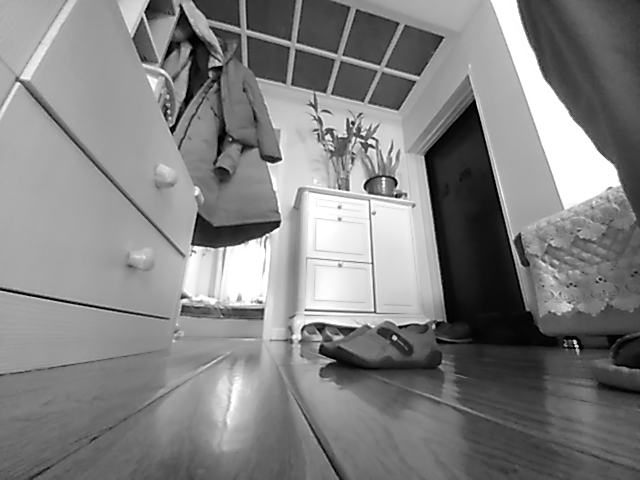shoe: (332, 320, 441, 375), (436, 321, 475, 345)
